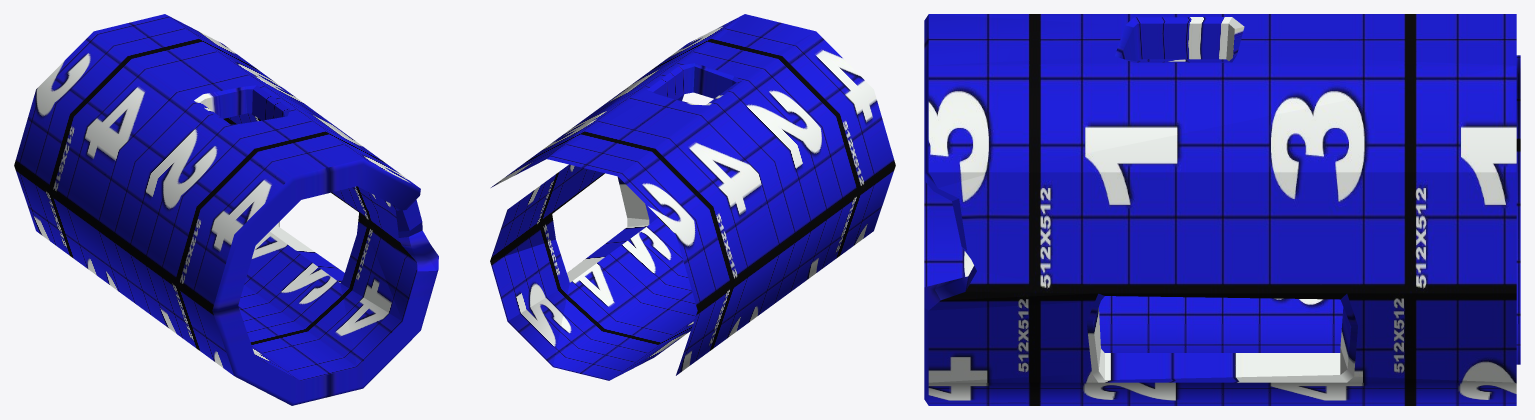
File: stonewell.glb
3 renders of one model, left to right at view 1: azimuth 30°, elevation 25°; view 2: azimuth 150°, elevation 25°; view 3: azimuth 270°, elevation 25°, orthographic. The views are drawn at different scales.
Bounding box in the file's own units: 48 × 45.65 × 72.49.
Materials: 1 (1 with a texture image).
